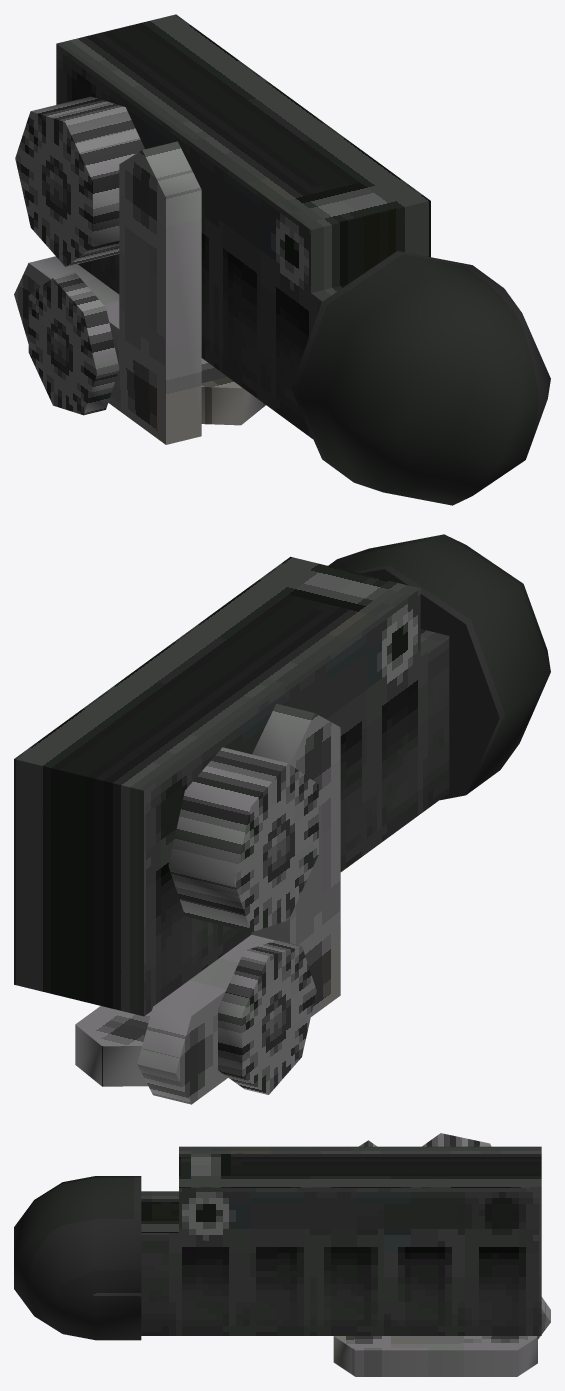
File: Volu.obj
3 renders of one model, top to bottom at view 1: azimuth 30°, elevation 25°; view 2: azimuth 150°, elevation 25°; view 3: azimuth 270°, elevation 25°, orthographic. The views are drawn at different scales.
Bounding box in the file's own units: 0.5482 × 0.7033 × 1.57.
